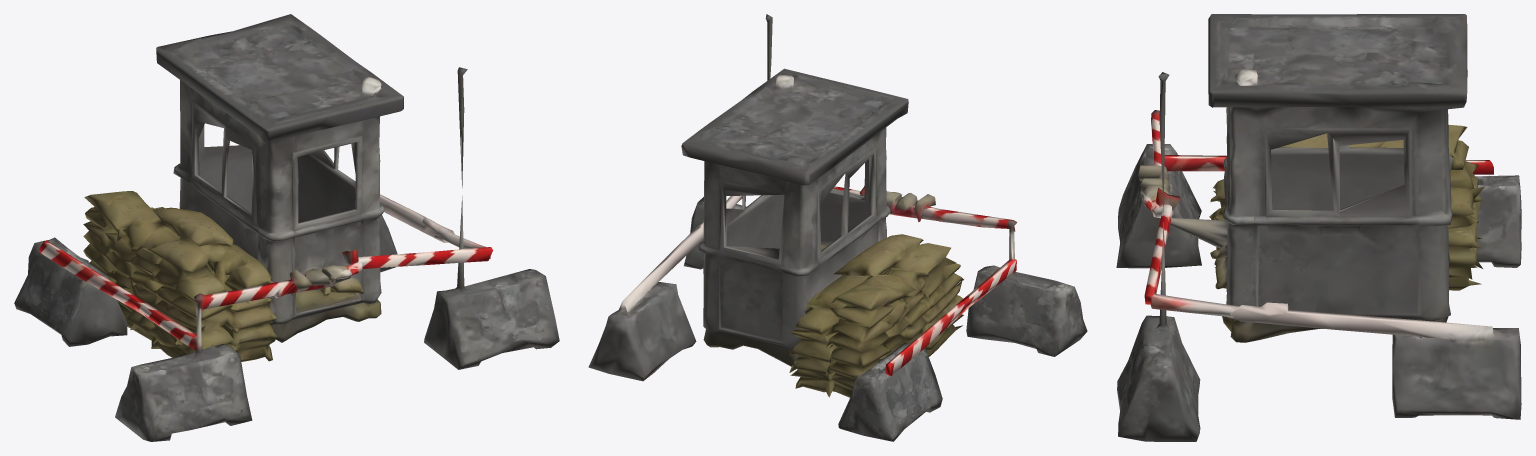
File: checkpoint.glb
3 views of the same model, side by side, from view 1: azimuth 30°, elevation 25°; view 2: azimuth 150°, elevation 25°; view 3: azimuth 270°, elevation 25° (orthographic). The views are drawn at different scales.
Parts seen in each view (by area): view 1: tripo_node_e6b84e76-3979-4c61-bcb7-01cdd27f0c33; view 2: tripo_node_e6b84e76-3979-4c61-bcb7-01cdd27f0c33; view 3: tripo_node_e6b84e76-3979-4c61-bcb7-01cdd27f0c33.
Boxes of the visible parts, x1,y1,x2,y2 form: tripo_node_e6b84e76-3979-4c61-bcb7-01cdd27f0c33: (14, 14, 559, 441); tripo_node_e6b84e76-3979-4c61-bcb7-01cdd27f0c33: (588, 14, 1087, 441); tripo_node_e6b84e76-3979-4c61-bcb7-01cdd27f0c33: (1116, 14, 1521, 441).
Size of the model in its own units: 6 by 3.96 by 4.48.
1 material, 1 textured.
